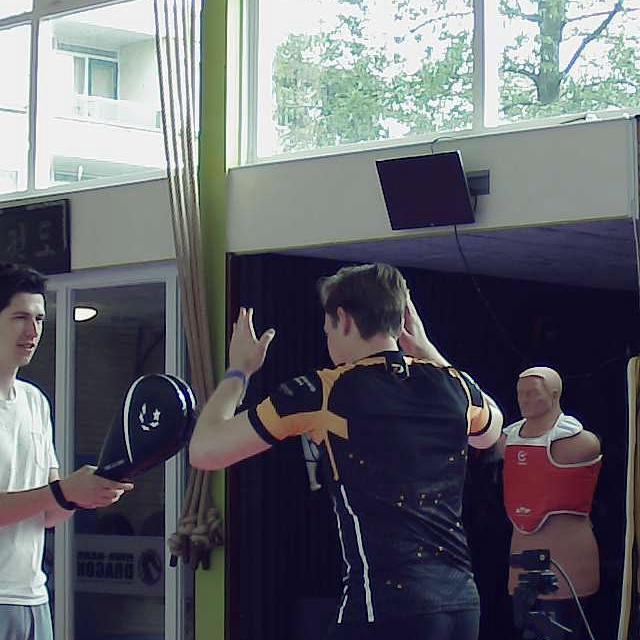paddle: (98, 373, 199, 480)
